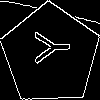Y: (25, 29, 71, 65)
